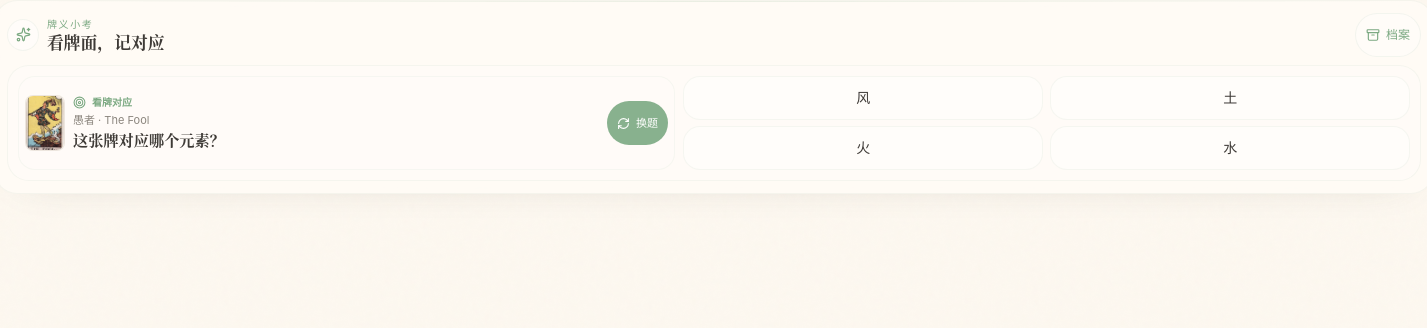
Scenario: StudyPavilionModules › shows a direct lightweight quiz on the home card and rewards the right answer
Expected: the text "牌义小考" is shown, [47,18,93,30]
Expected: the heading "看牌面，记对应" is shown, [47,32,164,53]
Click the button with test id "quiz-option-answer-风" at {"x": 864, "y": 98}, box [683,76,1044,120]
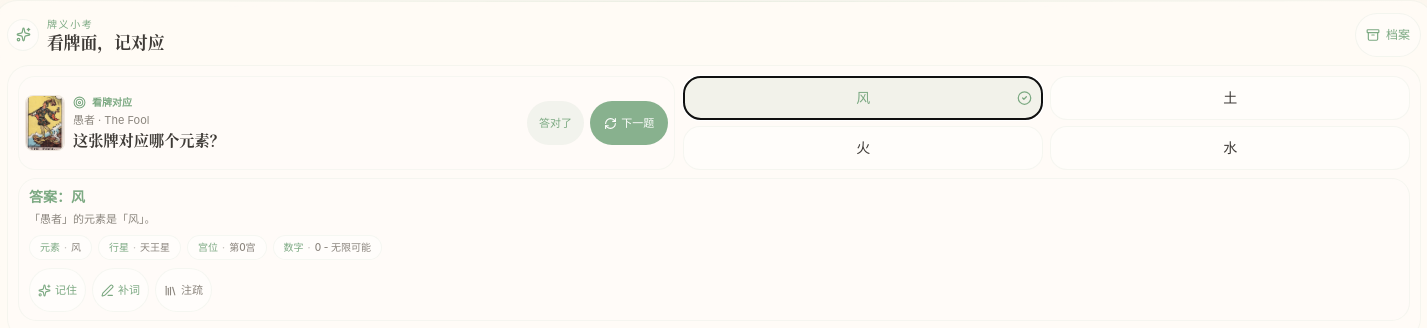
Result: the text "答对了" is shown at [527,101,584,145]
Result: the text "答案：风" is shown at [29,188,85,205]
Result: the text "元素" is shown at [40,241,60,253]
